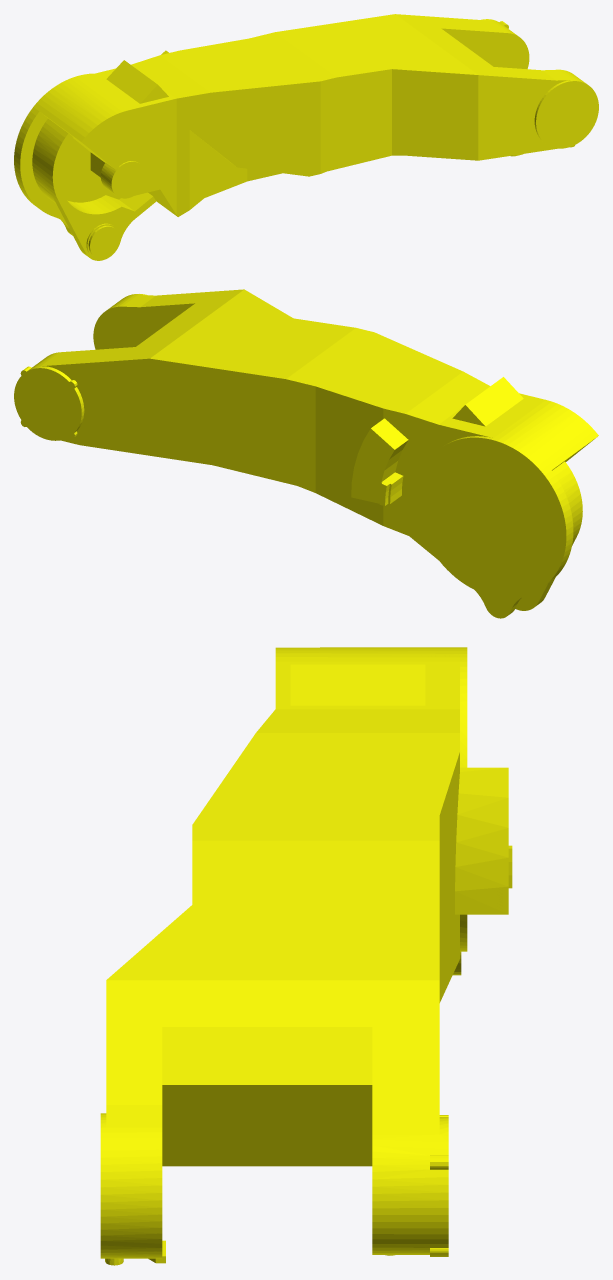
3 views of the same model, one above another, from view 1: azimuth 30°, elevation 25°; view 2: azimuth 150°, elevation 25°; view 3: azimuth 270°, elevation 25° (orthographic). The views are drawn at different scales.
Visible parts, largest first — view 1: node; view 2: node; view 3: node.
Part boxes in pixels (x1=…): node: x1=14, y1=14, x2=598, y2=260; node: x1=14, y1=289, x2=598, y2=618; node: x1=100, y1=647, x2=512, y2=1265.
Bounding box in the file's own units: 1520 × 529 × 550.
